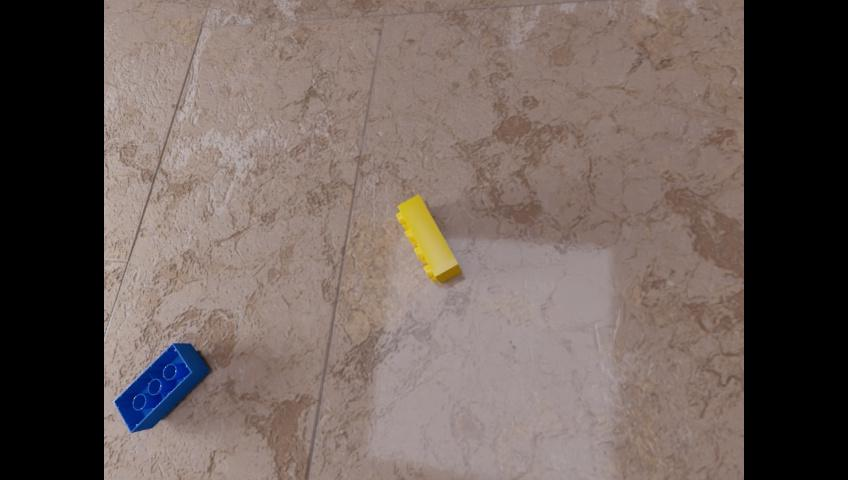4x2_blue: (113, 342, 208, 432)
4x2_yellow: (396, 193, 461, 283)
